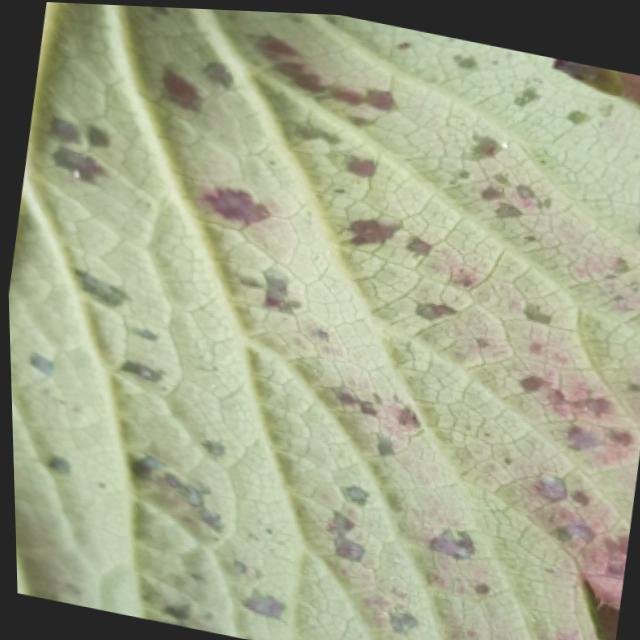Angular Leafspot: (7, 2, 640, 640)
